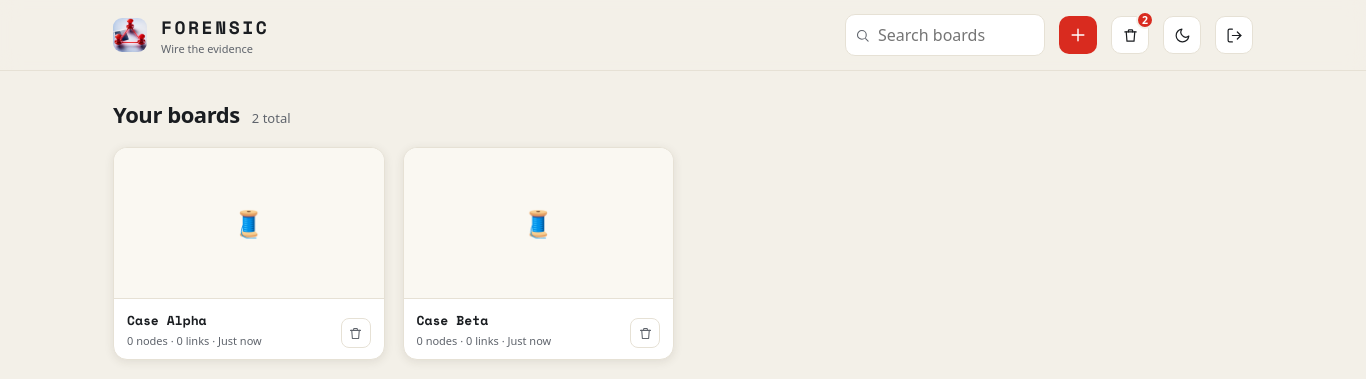
Test: Gallery › filters boards by search text
Type "beta" into the field with placeholder "Search boards". click: (945, 35)
box: [845, 14, 1045, 56]
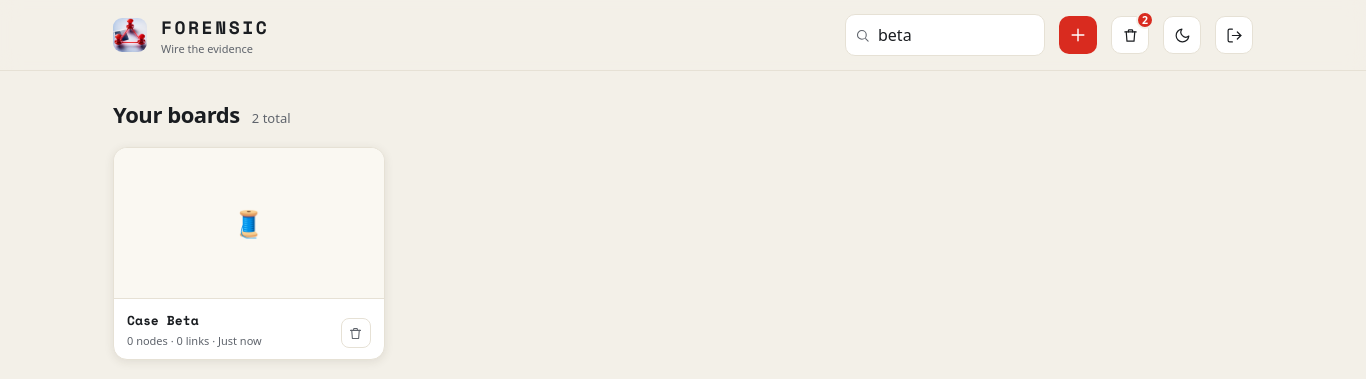
Expected: the text "Case Beta" is shown, [127, 310, 199, 330]
Now the button "Case Alpha" is gone
